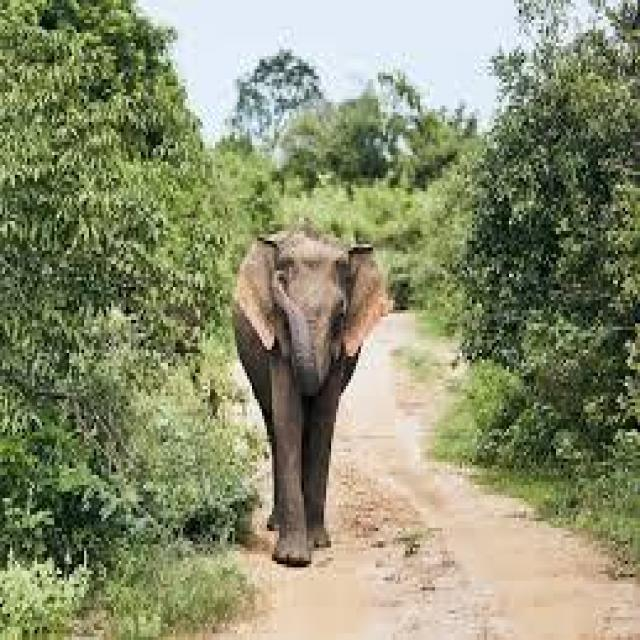Elephant: (220, 211, 406, 568)
